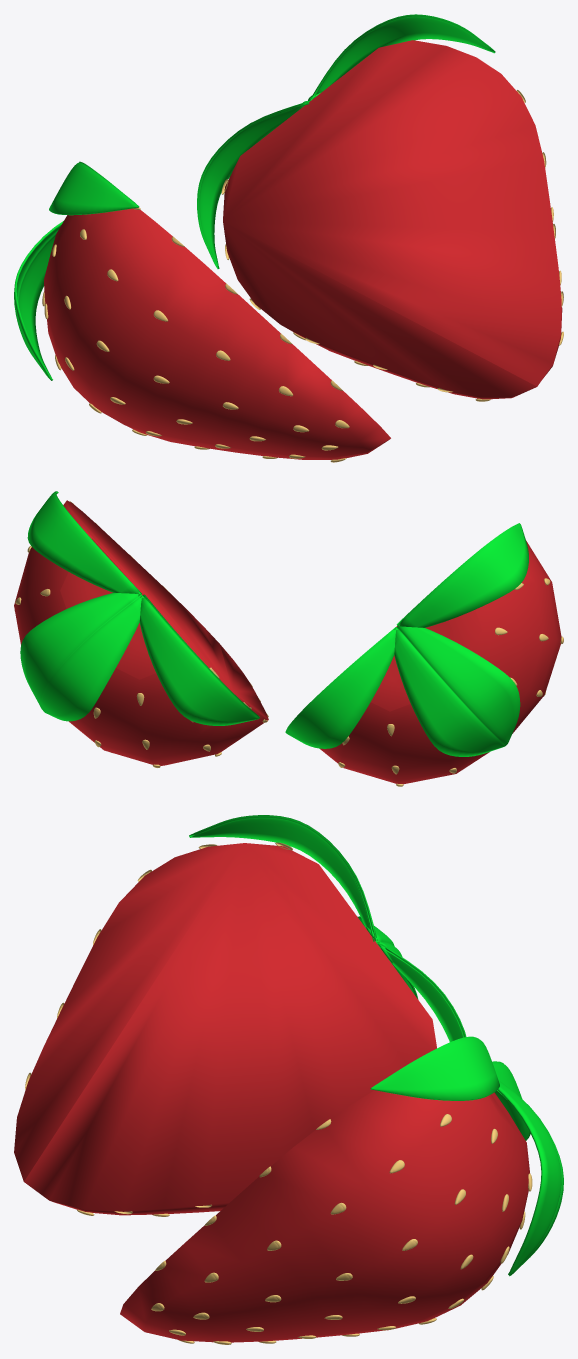
File: morangoCortado.fbx
3 views of the same model, one above another, from view 1: azimuth 30°, elevation 25°; view 2: azimuth 150°, elevation 25°; view 3: azimuth 270°, elevation 25° (orthographic). The views are drawn at different scales.
Parts seen in each view (by area): view 1: Object_450.001, Object_450; view 2: Object_450.001, Object_450; view 3: Object_450, Object_450.001.
Part boxes in pixels (left/top/right/bottom): Object_450.001: left=197, top=14, right=563, bottom=401; Object_450: left=14, top=161, right=390, bottom=462; Object_450.001: left=14, top=491, right=268, bottom=767; Object_450: left=285, top=523, right=563, bottom=786; Object_450: left=14, top=815, right=466, bottom=1216; Object_450.001: left=120, top=1036, right=563, bottom=1344.
Bounding box in the file's own units: 26.52 × 14.07 × 21.31.
